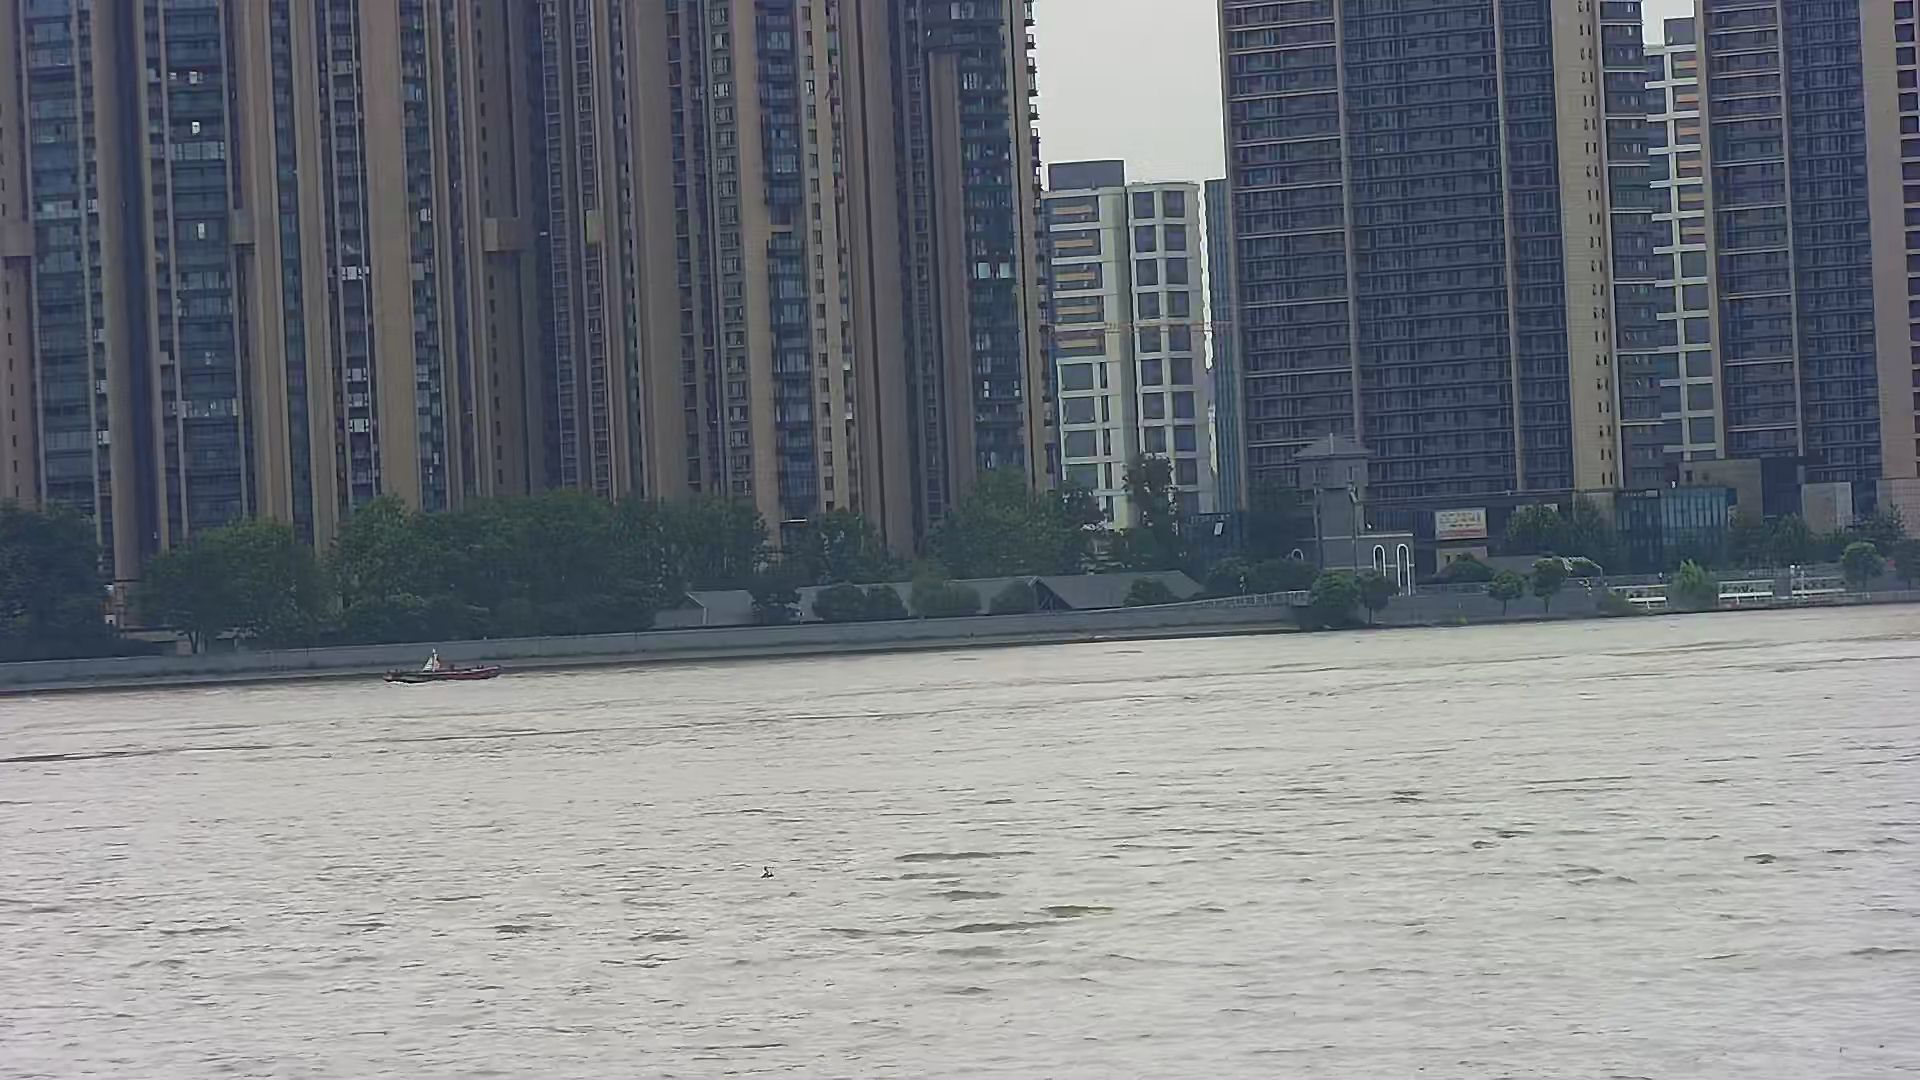boat: (381, 641, 505, 691)
